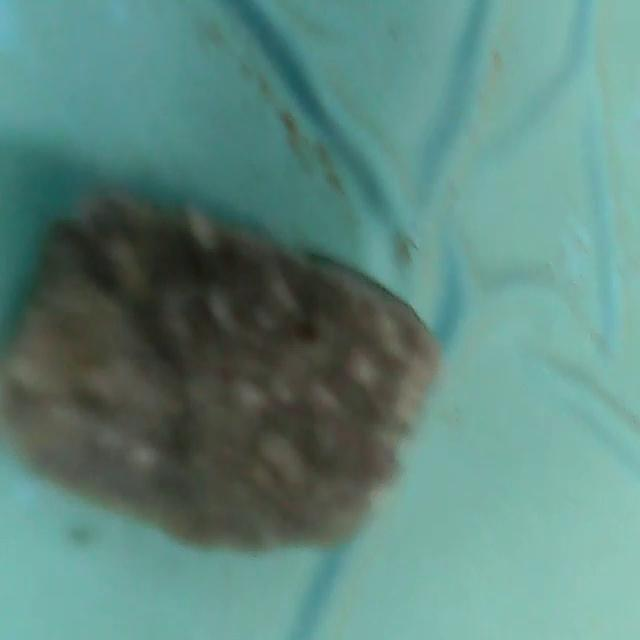rock: (0, 193, 450, 570)
